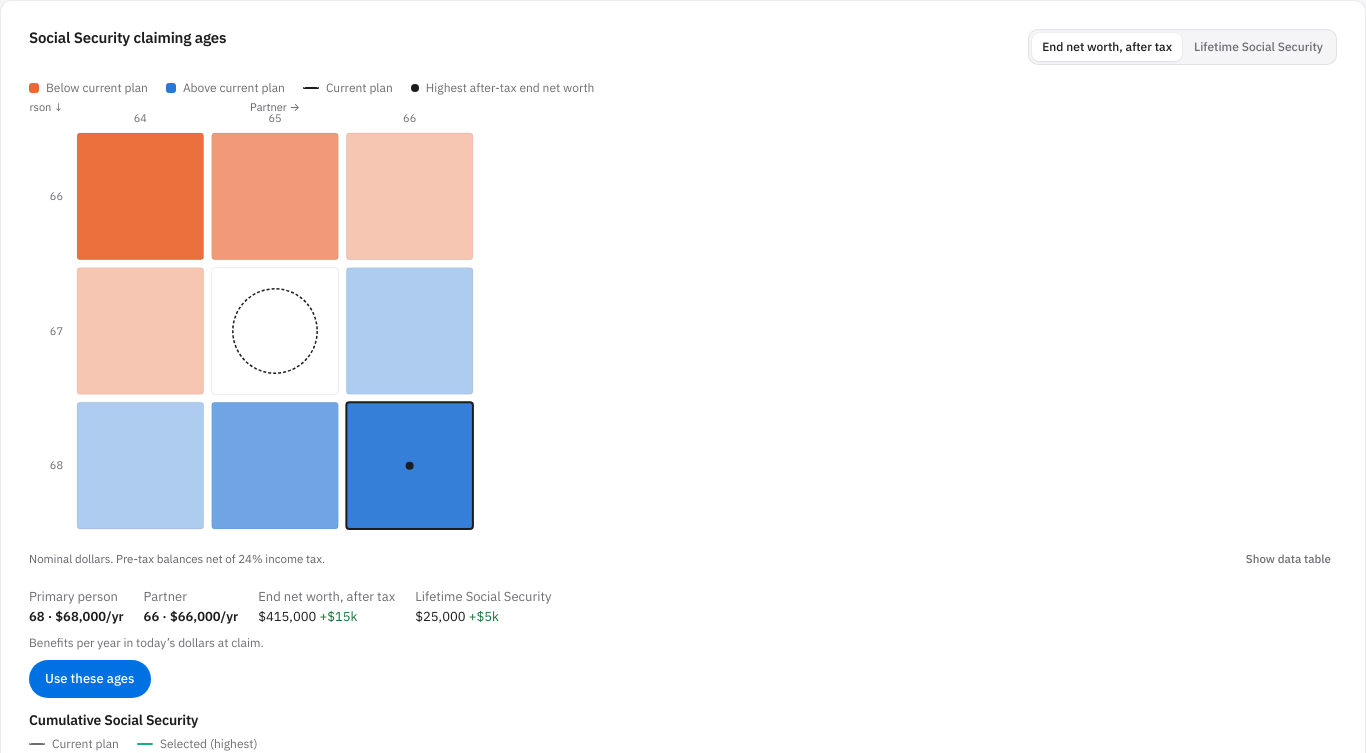
Test case: two people › recolors by lifetime Social Security
Click the button "Lifetime Social Security": (1258, 47) x1=1184 y1=33 x2=1333 y2=61
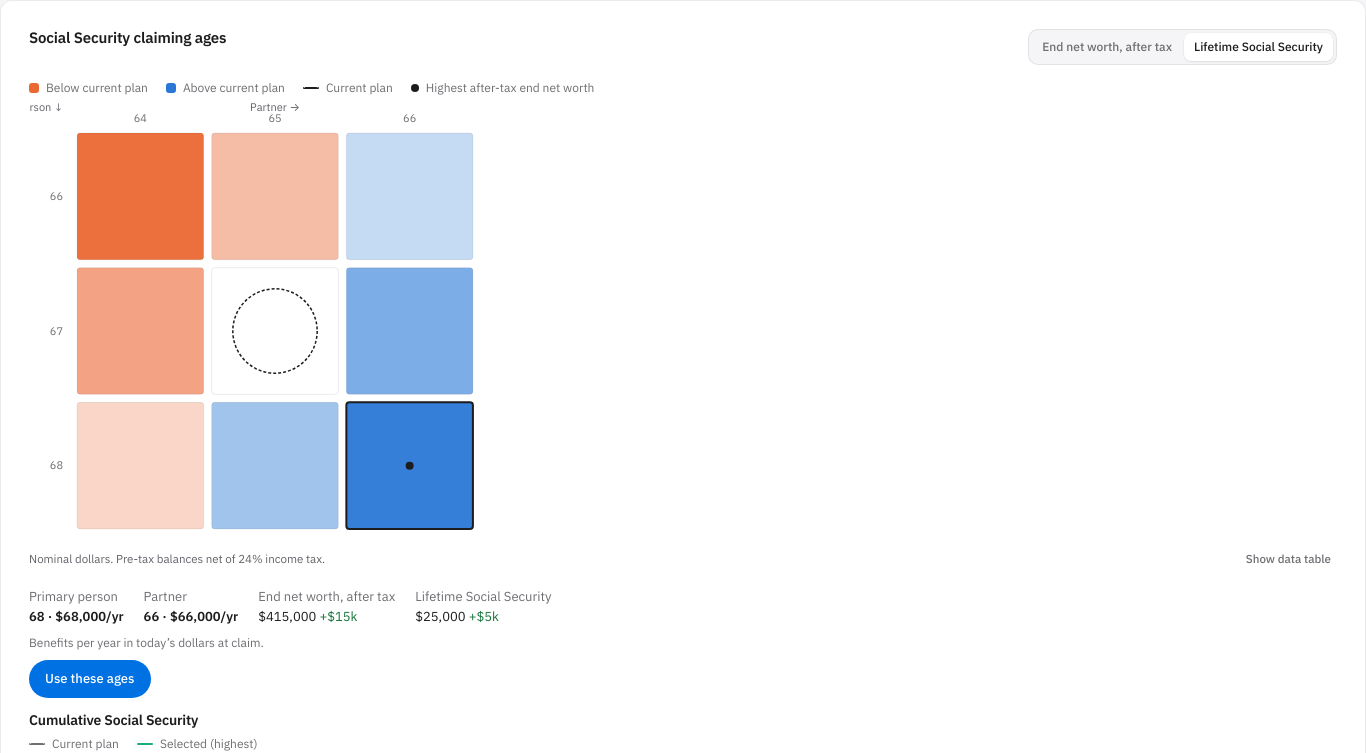
Check: the icon named "Lifetime Social Security change" is shown, box x1=29 y1=97 x2=489 y2=545
